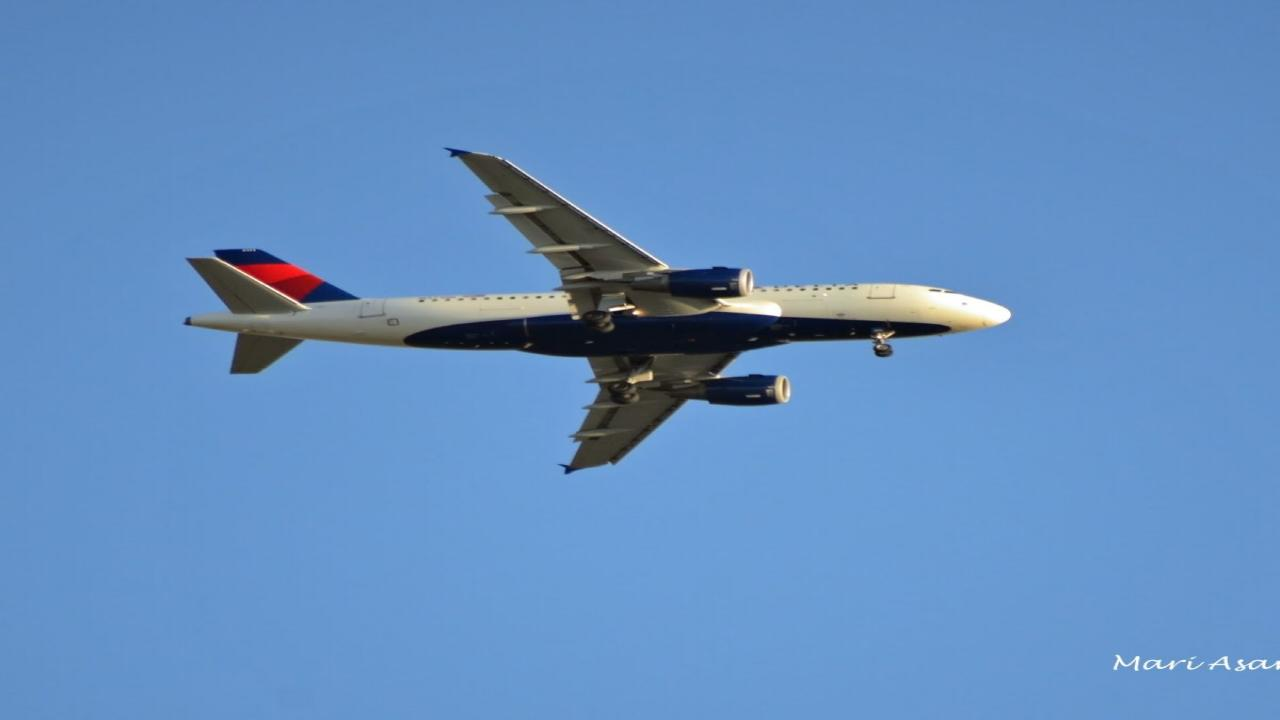Airplane: (139, 130, 1048, 495)
